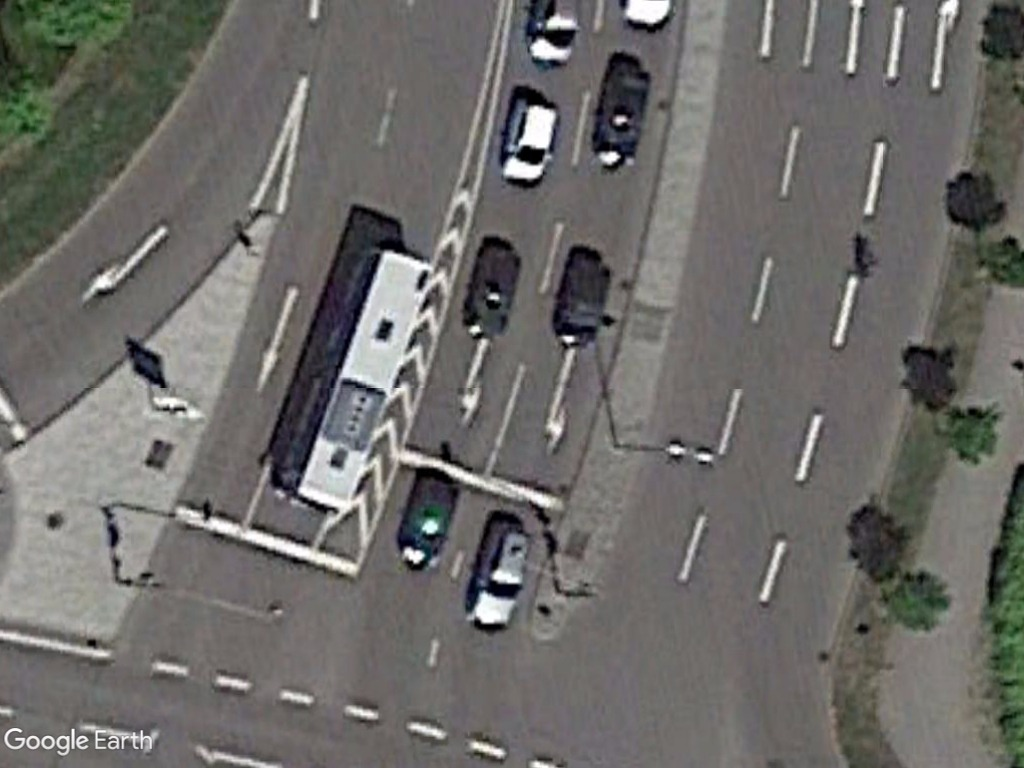bus: (287, 244, 436, 518)
car: (464, 515, 535, 636), (497, 95, 561, 189)
